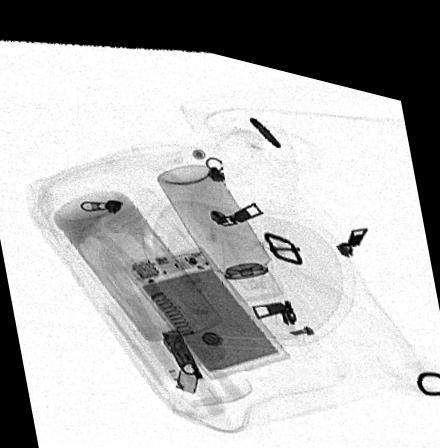Lighter: (247, 103, 280, 133)
Powerbank: (120, 235, 290, 369)
Sprayer: (155, 152, 282, 288)
